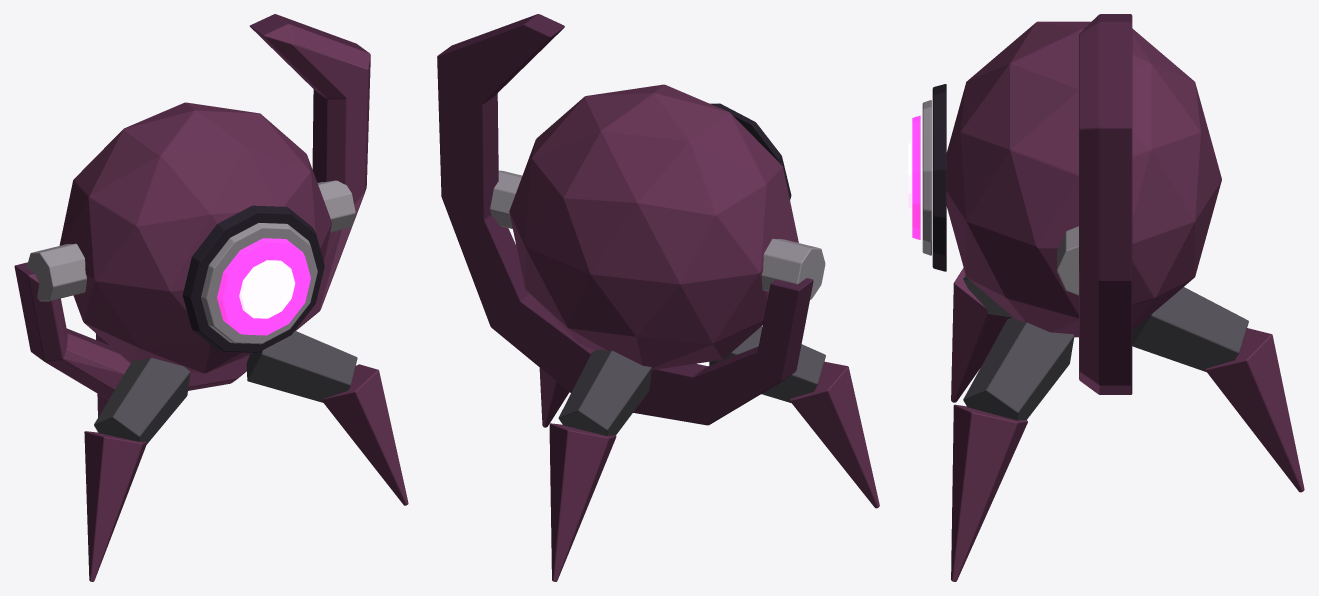
The model's file is Sentry.fbx.
3 views of the same model, side by side, from view 1: azimuth 30°, elevation 25°; view 2: azimuth 150°, elevation 25°; view 3: azimuth 270°, elevation 25° (orthographic). The views are drawn at different scales.
Parts seen in each view (by area): view 1: Armor 1, Armor 2, Armor 4, Armor 3; view 2: Armor 1, Armor 2, Armor 5, Armor 4, Armor 3; view 3: Armor 1, Armor 2, Armor 3, Armor 5, Armor 4.
Part boxes in pixels (left/top/right/bottom): Armor 1: left=26, top=102, right=355, bottom=373; Armor 2: left=14, top=14, right=370, bottom=399; Armor 4: left=84, top=357, right=190, bottom=581; Armor 3: left=246, top=330, right=408, bottom=505; Armor 1: left=490, top=84, right=825, bottom=369; Armor 2: left=437, top=14, right=813, bottom=425; Armor 5: left=549, top=349, right=651, bottom=581; Armor 4: left=709, top=326, right=879, bottom=508; Armor 3: left=539, top=368, right=569, bottom=427; Armor 1: left=908, top=21, right=1221, bottom=337; Armor 2: left=1079, top=14, right=1132, bottom=394; Armor 3: left=951, top=317, right=1074, bottom=581; Armor 5: left=1132, top=287, right=1304, bottom=492; Armor 4: left=951, top=268, right=1012, bottom=402.
Size of the model in its own units: 0.0797 by 0.0999 by 0.0679.
